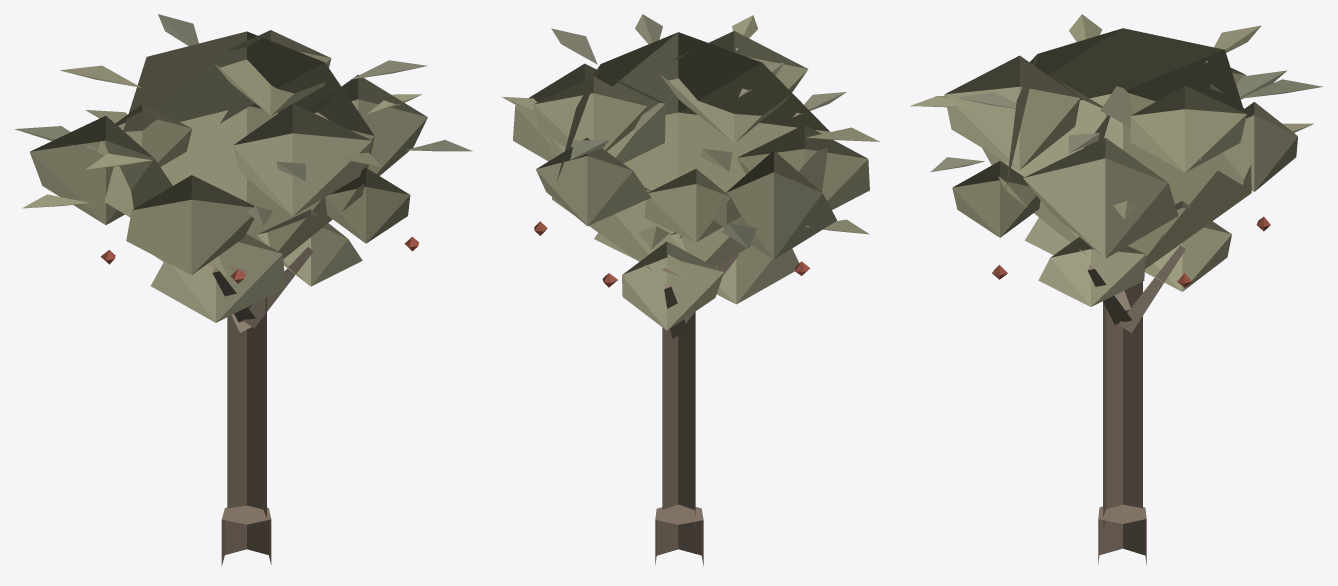
Rendered from shu.paotong@fruiting__winter.glb.
The picture shows the model from 3 angles, left to right: view 1: azimuth 30°, elevation 25°; view 2: azimuth 150°, elevation 25°; view 3: azimuth 270°, elevation 25°; orthographic projection.
Visible parts, largest first — view 1: shu.paotong@fruiting__winter; view 2: shu.paotong@fruiting__winter; view 3: shu.paotong@fruiting__winter.
Part boxes in pixels (x1,y1,x2,y2): shu.paotong@fruiting__winter: [14, 14, 472, 566]; shu.paotong@fruiting__winter: [501, 14, 880, 566]; shu.paotong@fruiting__winter: [910, 14, 1322, 565].
Size of the model in its own units: 12.98 by 16.56 by 11.9.
